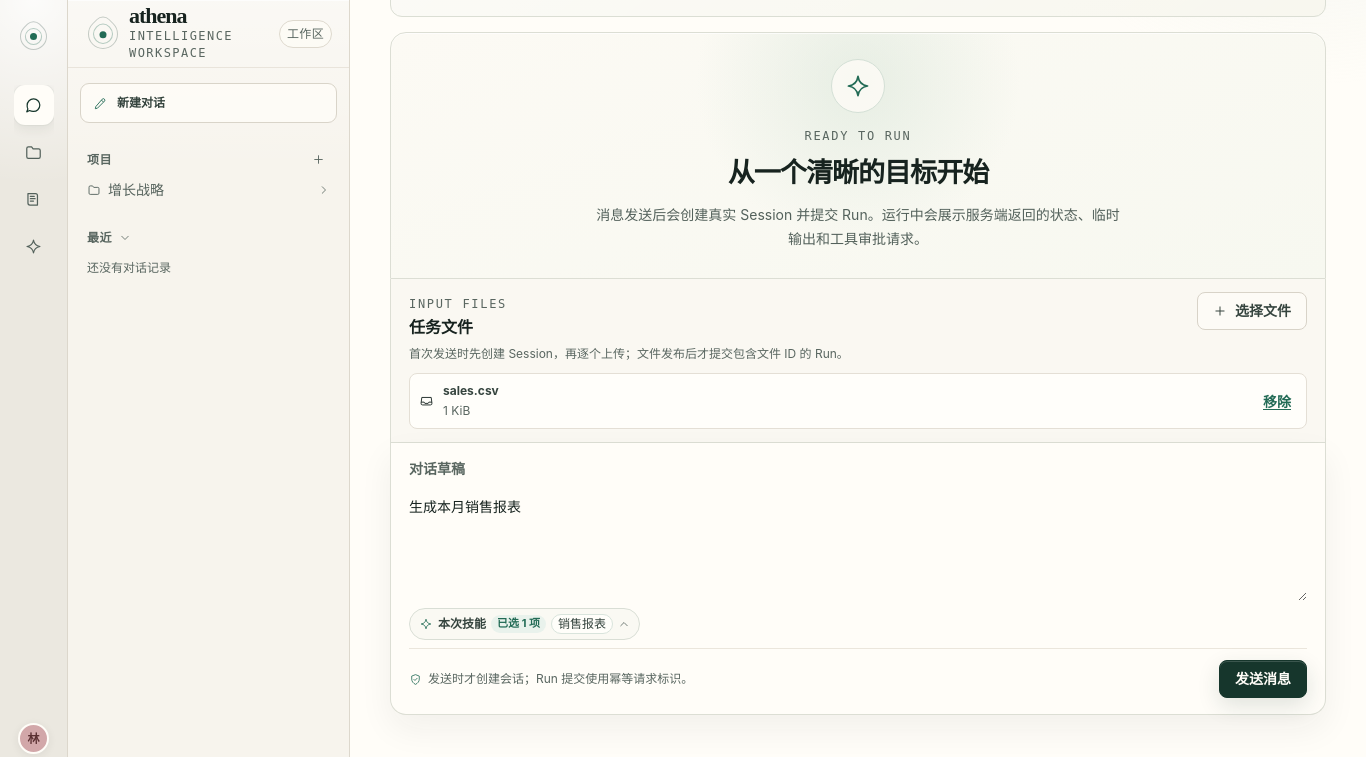
Test case: 聊天技能选择与会话文件 › 新会话先上传文件，再提交技能 ID 与文件 ID
The width and height of the screenshot is (1366, 757).
Earlier steps of the test are not shown.
(page scrolled)
Click the button "发送消息": (1263, 679) left=1219, top=660, right=1307, bottom=698
(page scrolled)
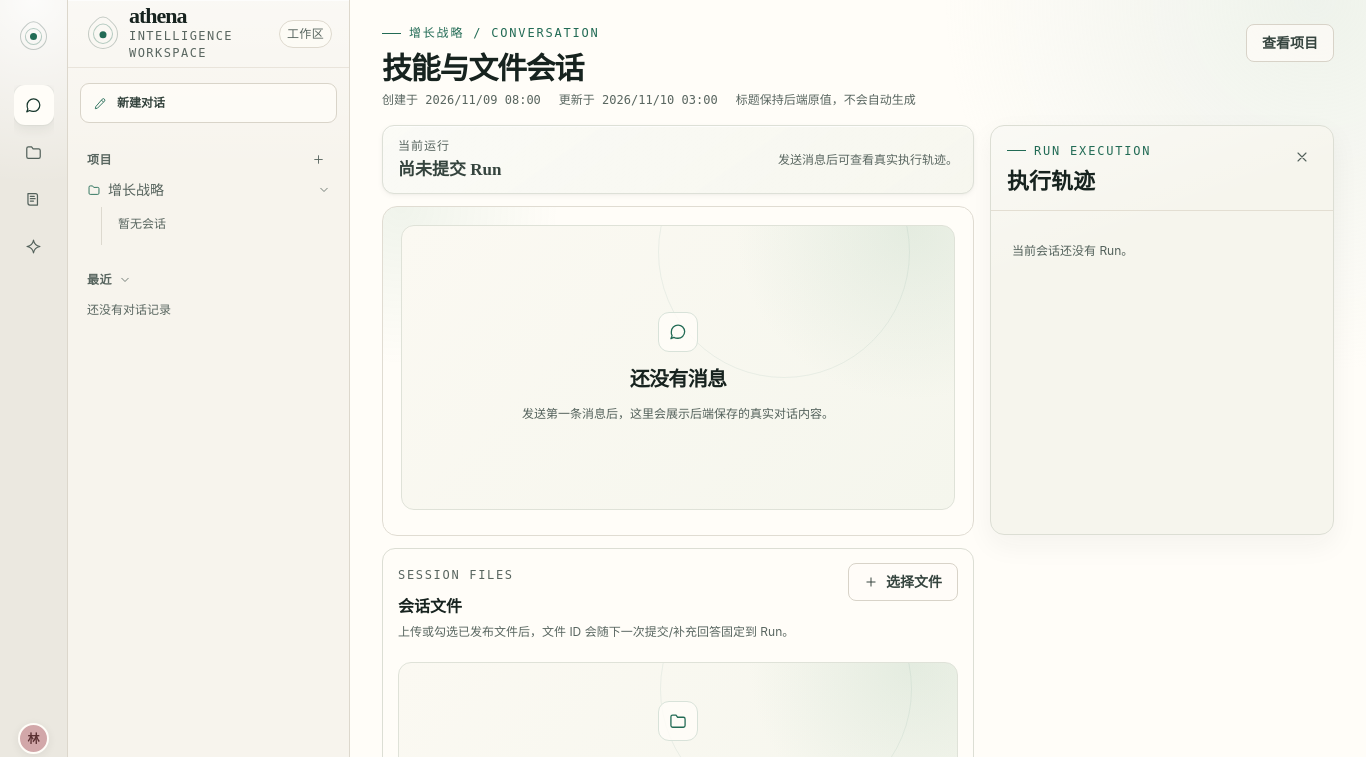
Check: the heading "技能与文件会话" is shown, box left=382, top=52, right=583, bottom=85
